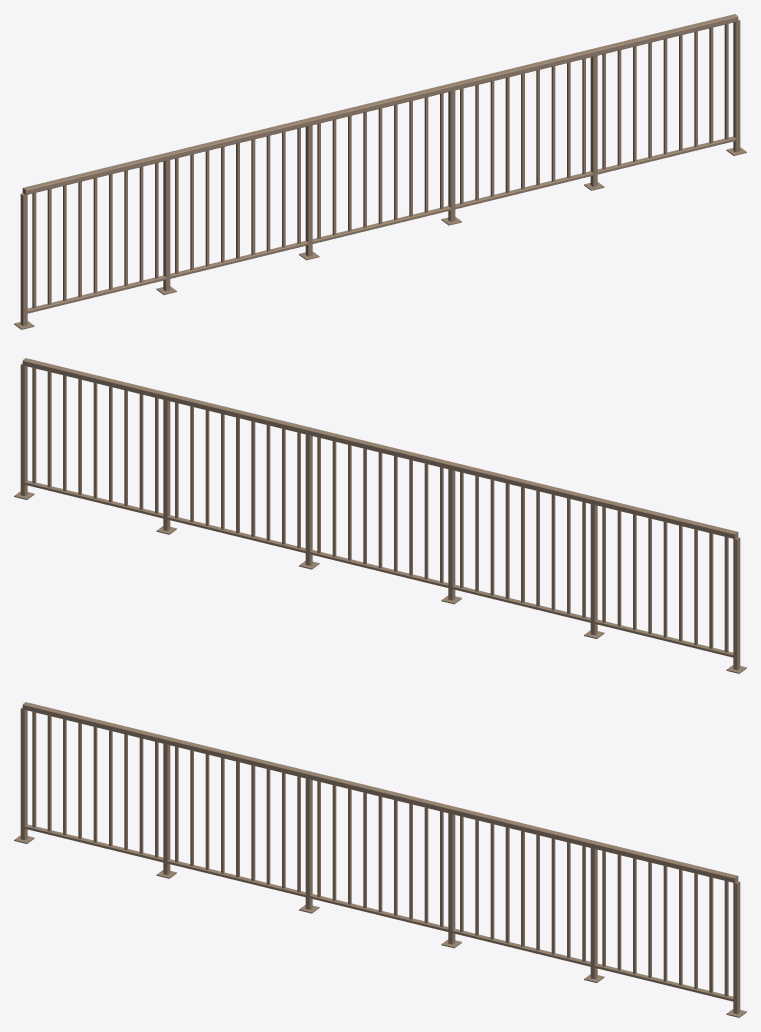
Rendered from gc-s80b-barreaudage-600-quartz-1019.glb.
The picture shows the model from 3 angles, top to bottom: view 1: azimuth 30°, elevation 25°; view 2: azimuth 150°, elevation 25°; view 3: azimuth 330°, elevation 25°; orthographic projection.
Parts seen in each view (by area): view 1: structure; view 2: structure; view 3: structure.
Boxes of the visible parts, x1,y1,x2,y2 form: structure: [14, 14, 746, 329]; structure: [14, 358, 746, 673]; structure: [14, 702, 746, 1017].
Size of the model in its own units: 6.11 by 1.1 by 0.11.
